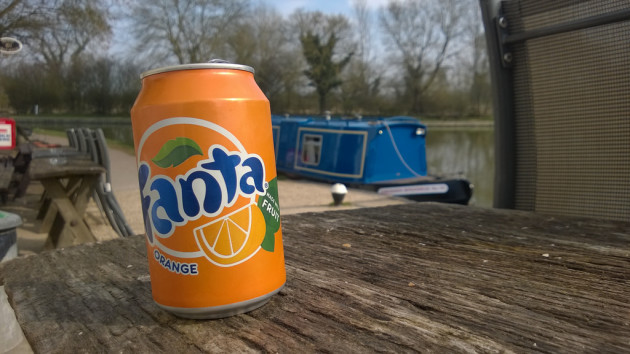fanta: (132, 72, 294, 312)
